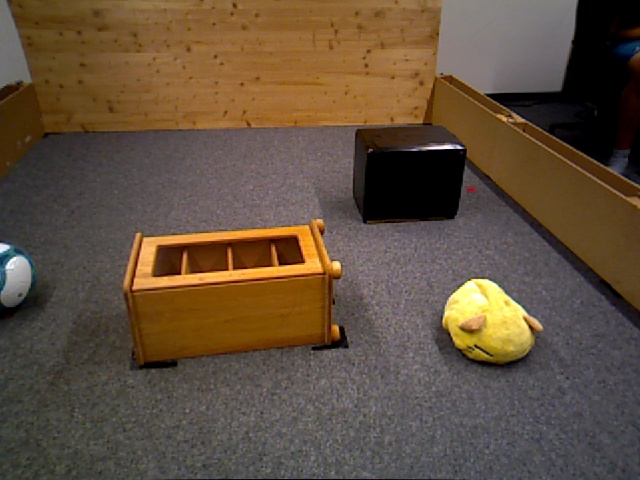grasp: (445, 276, 536, 368)
kick: (1, 243, 35, 312)
push: (353, 128, 467, 223)
